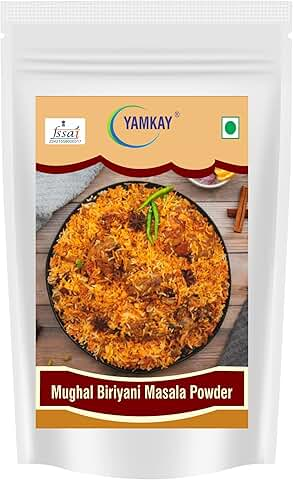Biryani: (17, 86, 266, 470)
